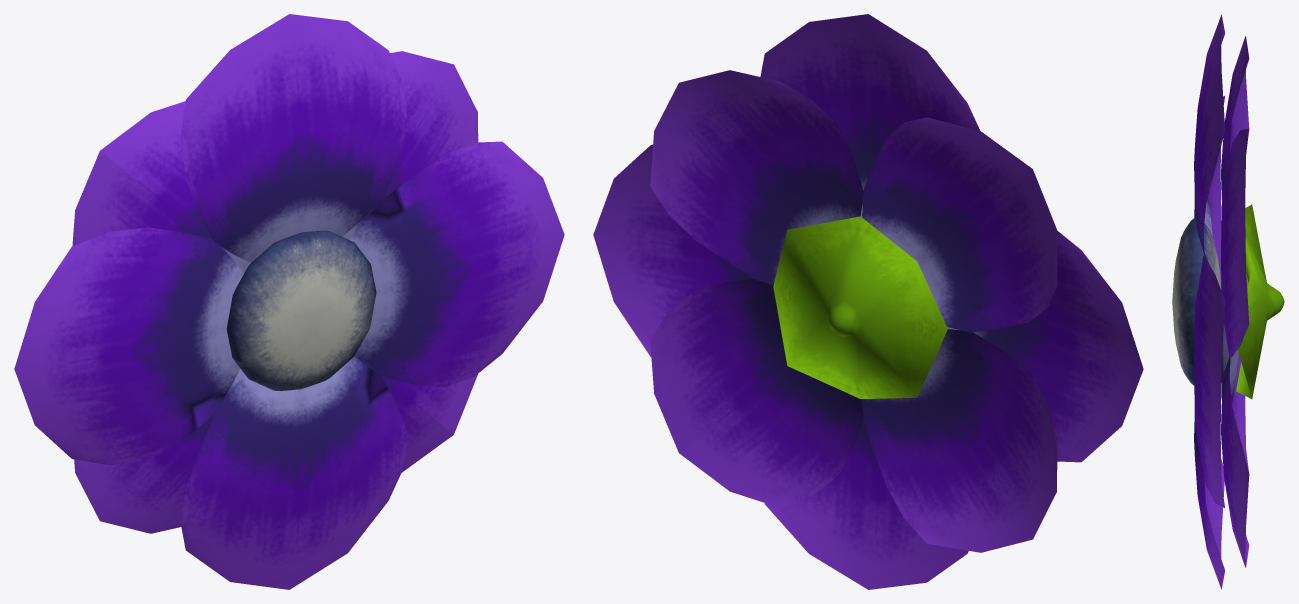
The model's file is poppy anemone.fbx.
3 renders of one model, left to right at view 1: azimuth 30°, elevation 25°; view 2: azimuth 150°, elevation 25°; view 3: azimuth 270°, elevation 25°, orthographic. The views are drawn at different scales.
Visible parts, largest first — view 1: poppy anemone.petal, poppy anemone.petal.001, poppy anemone.face; view 2: poppy anemone.petal.001, poppy anemone.petal, poppy anemone.head; view 3: poppy anemone.petal, poppy anemone.petal.001, poppy anemone.face, poppy anemone.head.
Boxes of the visible parts, <box> form: poppy anemone.petal: <box>14,14,564,589</box>; poppy anemone.petal.001: <box>72,51,478,533</box>; poppy anemone.face: <box>226,230,376,390</box>; poppy anemone.petal.001: <box>650,70,1057,552</box>; poppy anemone.petal: <box>593,14,1143,589</box>; poppy anemone.head: <box>773,216,947,398</box>; poppy anemone.petal: <box>1194,14,1225,589</box>; poppy anemone.petal.001: <box>1221,36,1249,567</box>; poppy anemone.face: <box>1172,218,1220,385</box>; poppy anemone.head: <box>1236,204,1284,399</box>.
Bounding box in the file's own units: 221 × 221 × 40.04.
